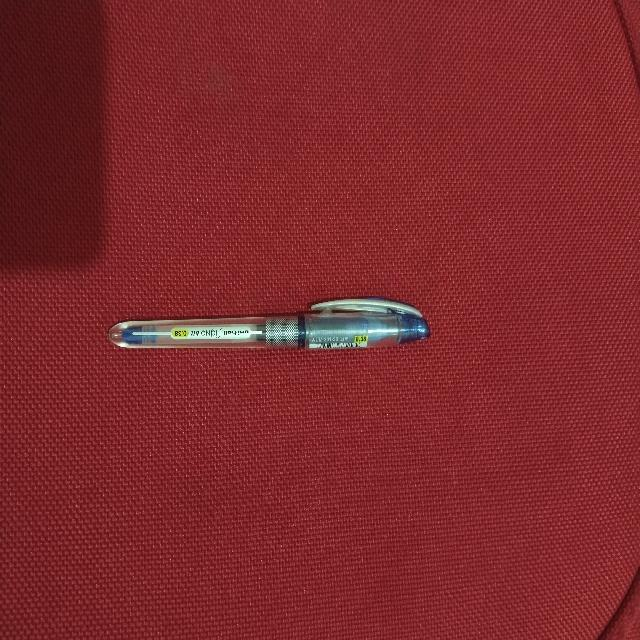pen: (109, 298, 429, 348)
